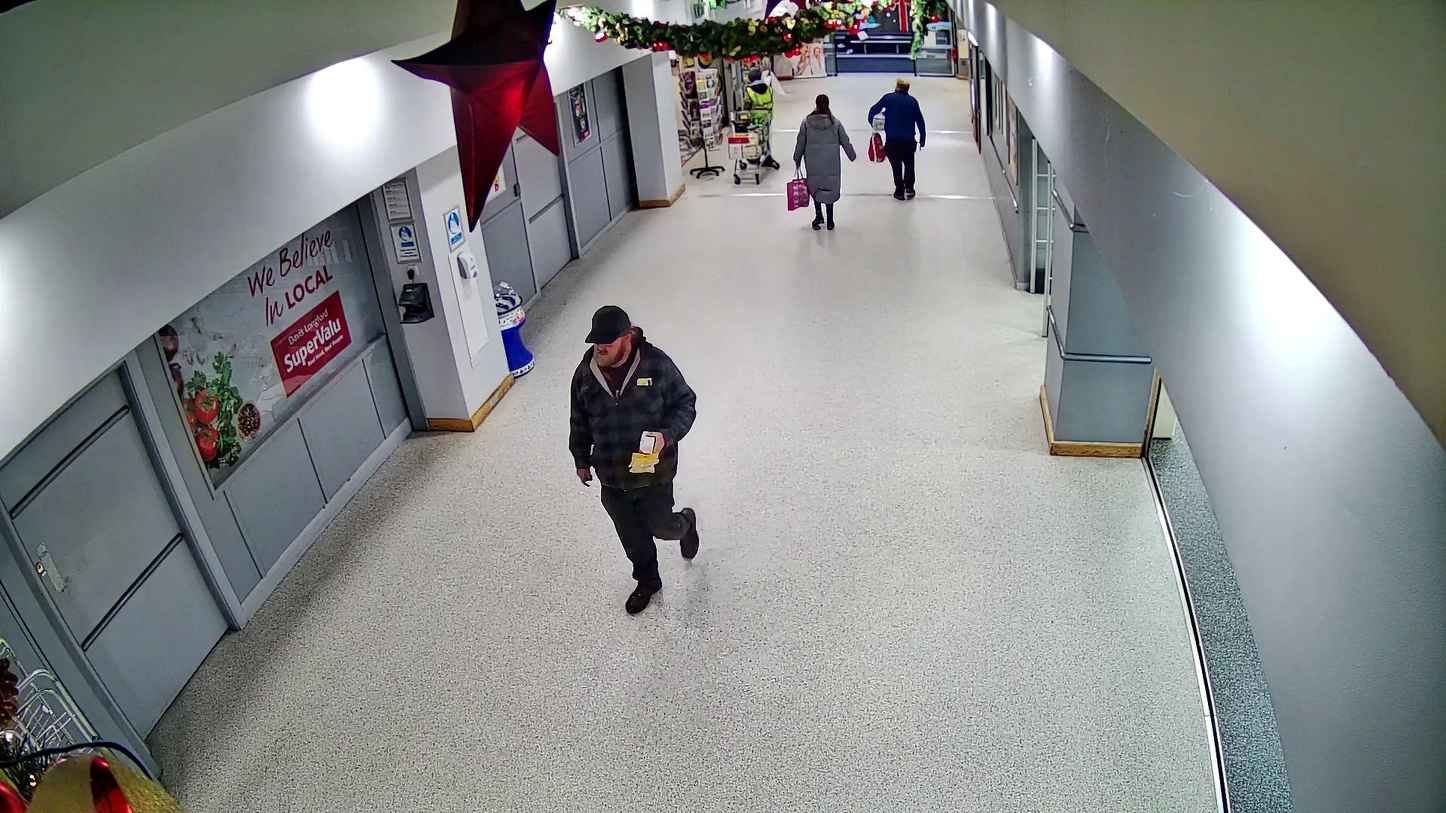carrying-item: (623, 429, 665, 475), (871, 112, 886, 131)
filled-shopping-bags: (787, 173, 810, 212), (867, 132, 885, 163)
person: (571, 304, 700, 614), (794, 94, 856, 231), (868, 78, 926, 201)
person with carrying item-s- and shopping bag-s-: (866, 78, 926, 201)
person-with-carrying-item: (571, 304, 700, 614)
person-with-filled-shopping-bag-s-: (787, 94, 856, 230)
